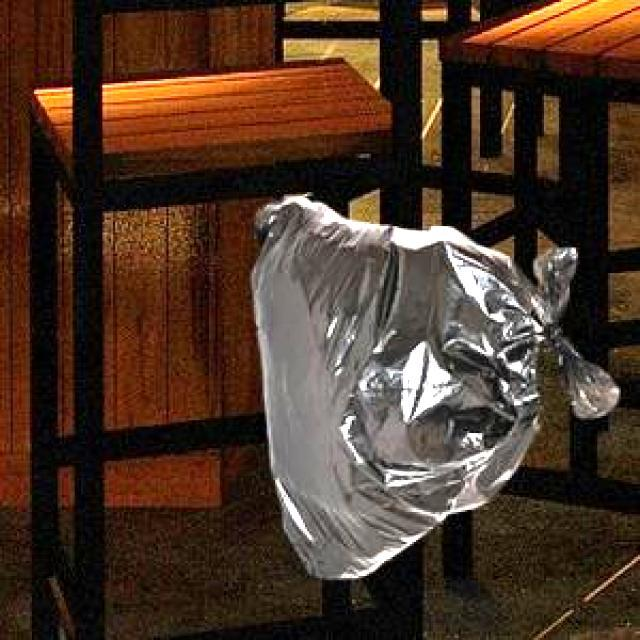Garbage_Bag: (248, 195, 614, 575)
